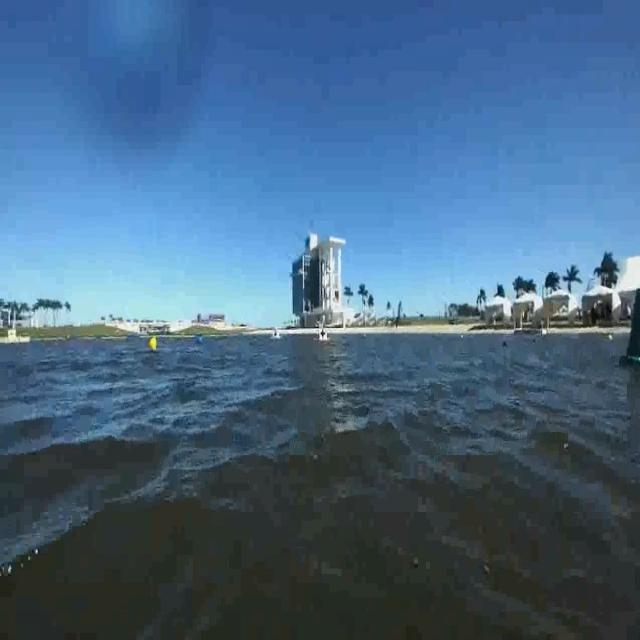green-column-buoy: (622, 284, 640, 369)
yellow-buoy: (148, 336, 158, 354)
